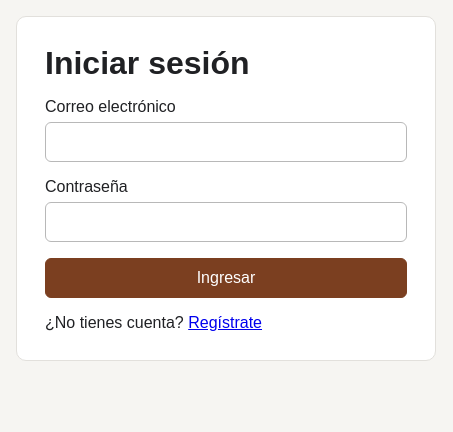
it: Login (validación del formulario) › muestra error si falta la contraseña
The image size is (453, 432).
Type "admin@sonidovivo.cl" into the field labelled "Correo electrónico".
click(226, 142); type("admin@sonidovivo.cl")  # box [45,122,407,162]
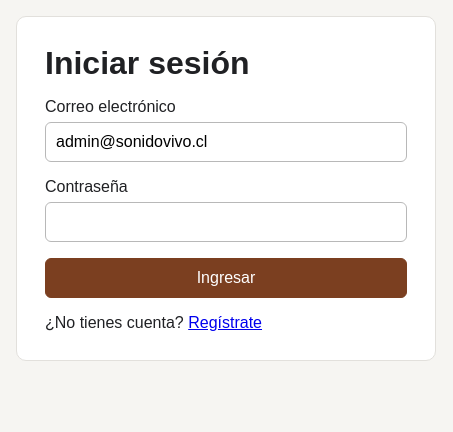
Submit the form
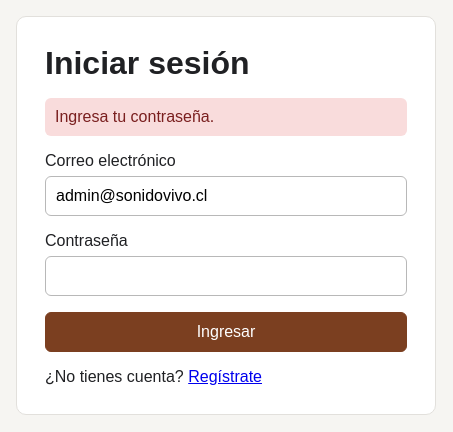
Check: the message reads "Ingresa tu contraseña.", box [55,108,214,125]
